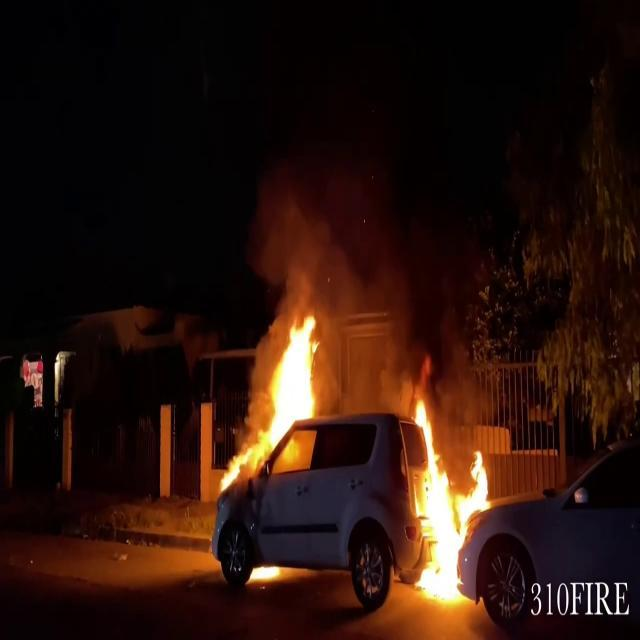Fire: (406, 388, 494, 606), (252, 305, 326, 460)
Smoke: (245, 25, 478, 390)
